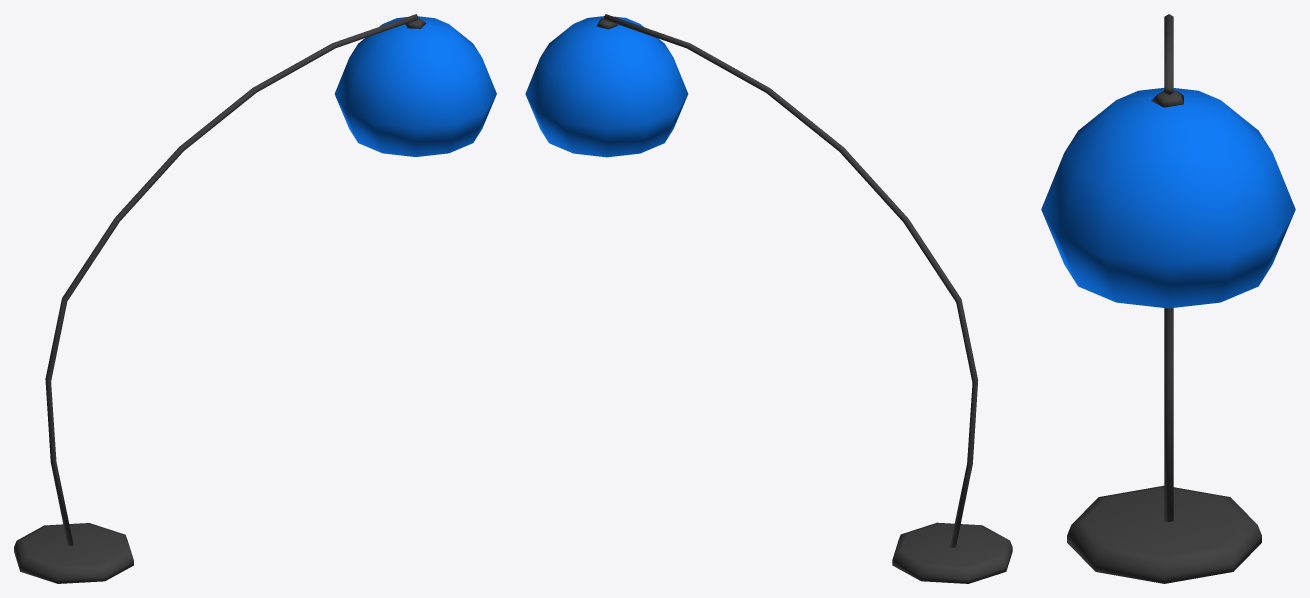
The model's file is Arc_Lamp_E.FBX.
3 renders of one model, left to right at view 1: azimuth 30°, elevation 25°; view 2: azimuth 150°, elevation 25°; view 3: azimuth 270°, elevation 25°, orthographic. The views are drawn at different scales.
Parts seen in each view (by area): view 1: Arc_Lamp; view 2: Arc_Lamp; view 3: Arc_Lamp.
Boxes of the visible parts, bbox=[...] form: Arc_Lamp: bbox=[14, 14, 496, 583]; Arc_Lamp: bbox=[525, 14, 1012, 583]; Arc_Lamp: bbox=[1041, 14, 1295, 583].
Bounding box in the file's own units: 316 × 297 × 95.22.
